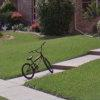Bicycle: (15, 33, 66, 87)
